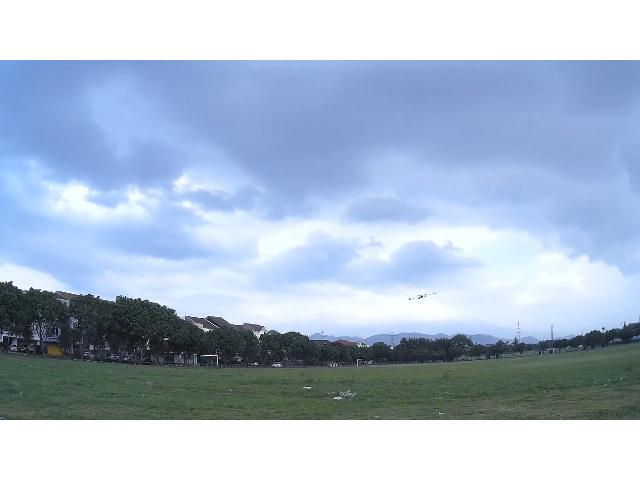Anti-Drone: (408, 292, 438, 299)
